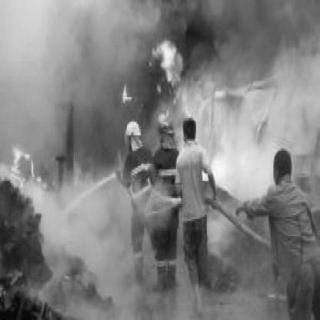Fire: (270, 95, 314, 169), (220, 92, 244, 146)
Smoke: (11, 8, 104, 96), (155, 104, 177, 140), (121, 112, 143, 140)
